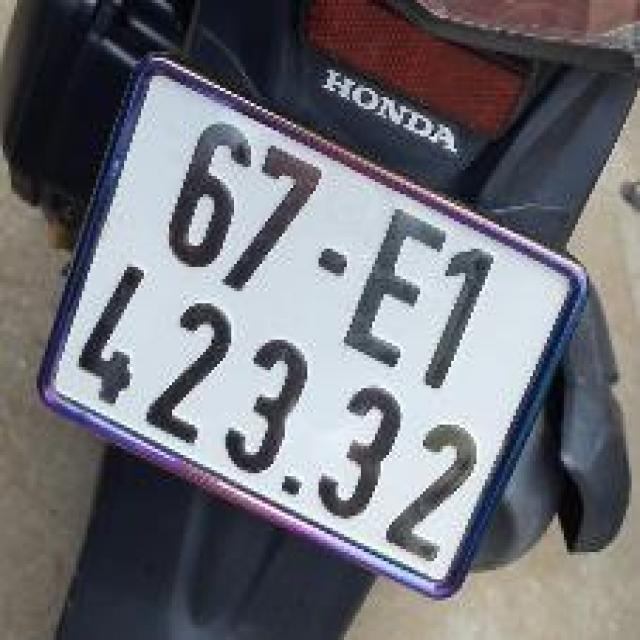1: (407, 230, 510, 412)
2: (370, 403, 498, 575), (136, 263, 246, 454)
3: (209, 316, 333, 493), (304, 360, 423, 537)
4: (63, 230, 168, 417)
6: (152, 92, 267, 287)
7: (210, 121, 339, 306)
E: (327, 189, 459, 385)
